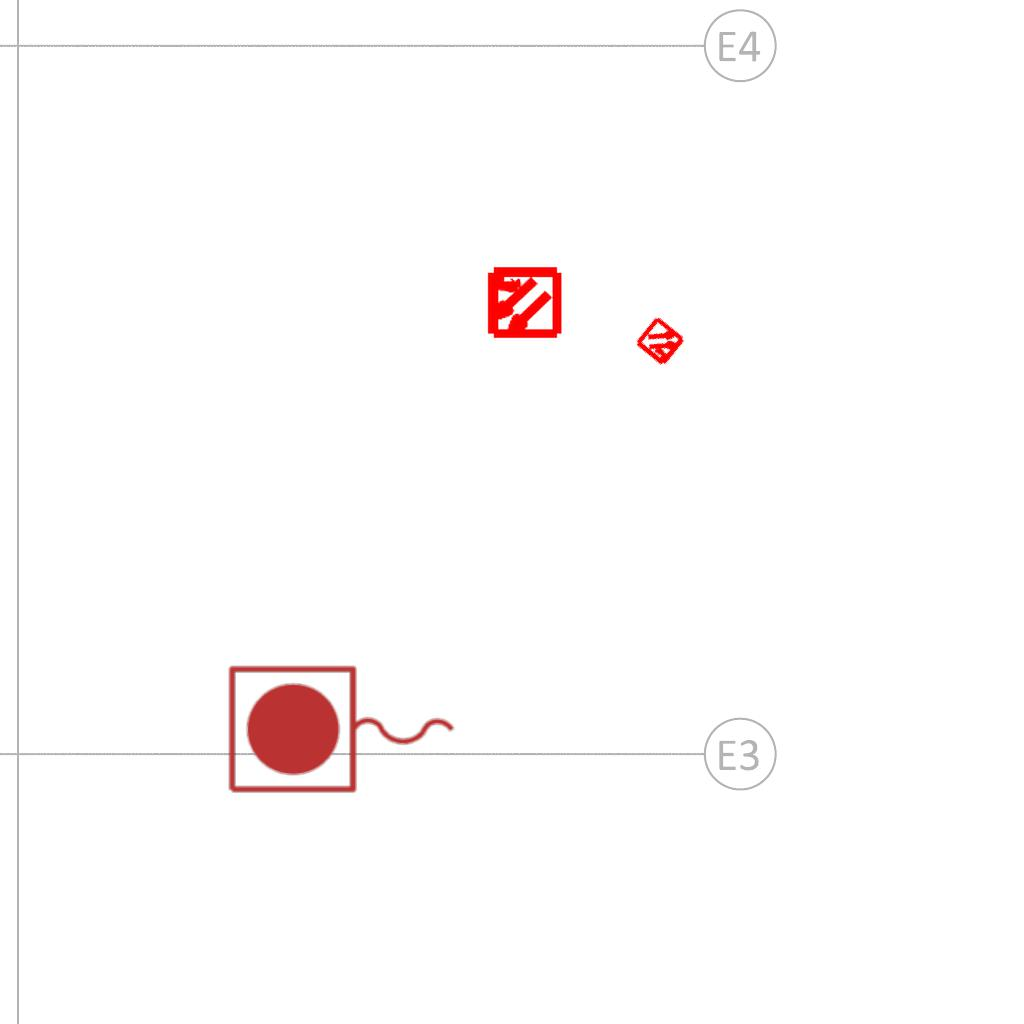OT_Multisensormelder_(Kombination_RMO_WMD): (466, 246, 579, 359), (621, 302, 701, 382)
Zugtaster: (221, 659, 465, 803)
